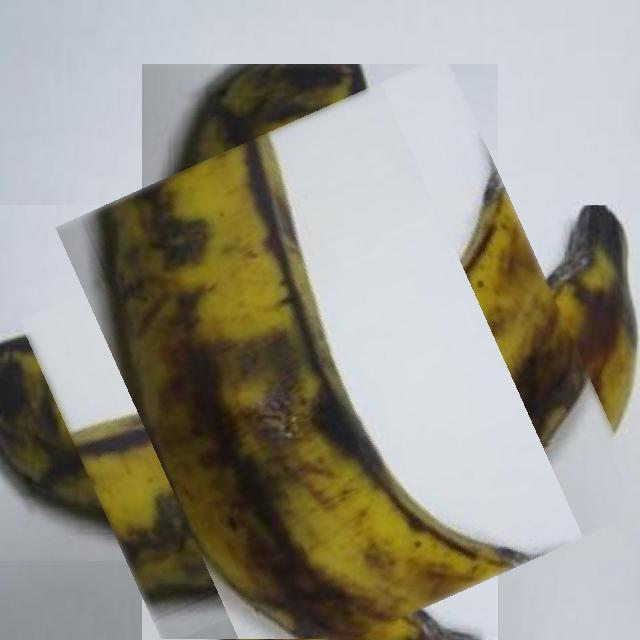Execivamente Madura: (32, 94, 609, 640)
